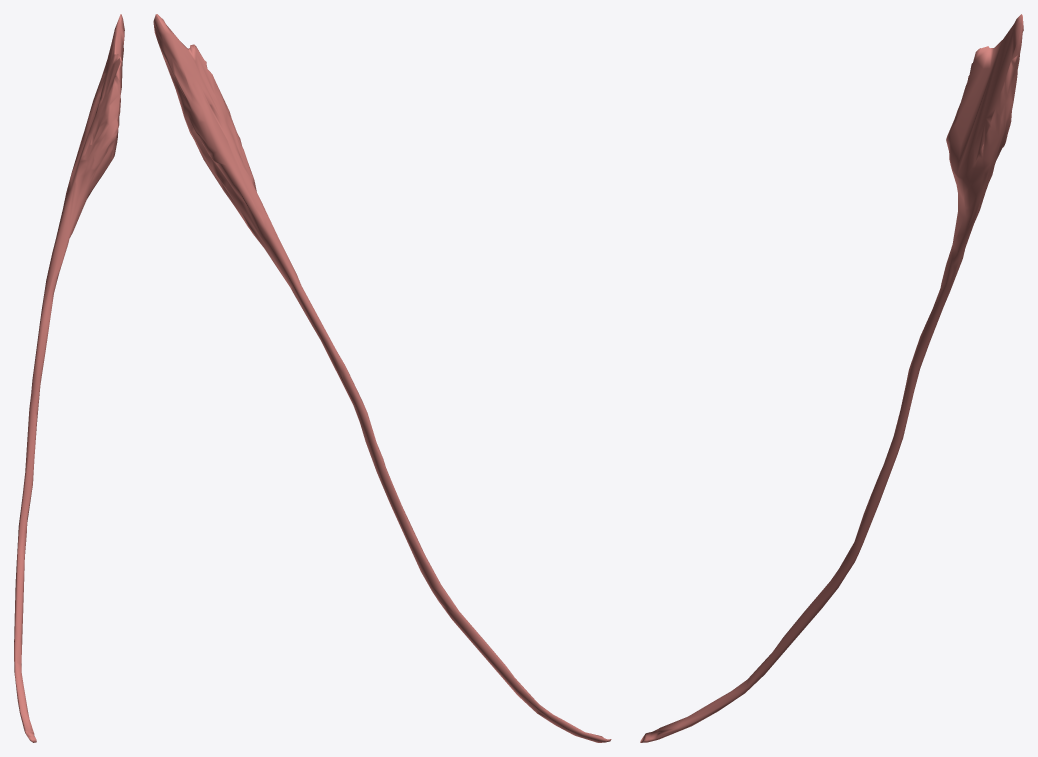
The picture shows the model from 3 angles, left to right: view 1: azimuth 30°, elevation 25°; view 2: azimuth 150°, elevation 25°; view 3: azimuth 270°, elevation 25°; orthographic projection. The views are drawn at different scales.
Visible parts, largest first — view 1: ZA_8ec4eed0ec3e776b; view 2: ZA_8ec4eed0ec3e776b; view 3: ZA_8ec4eed0ec3e776b.
Part boxes in pixels (x1=…): ZA_8ec4eed0ec3e776b: x1=14, y1=14, x2=124, y2=742; ZA_8ec4eed0ec3e776b: x1=153, y1=14, x2=611, y2=742; ZA_8ec4eed0ec3e776b: x1=640, y1=14, x2=1023, y2=742.
Bounding box in the file's own units: 0.0807 × 0.206 × 0.0811.
